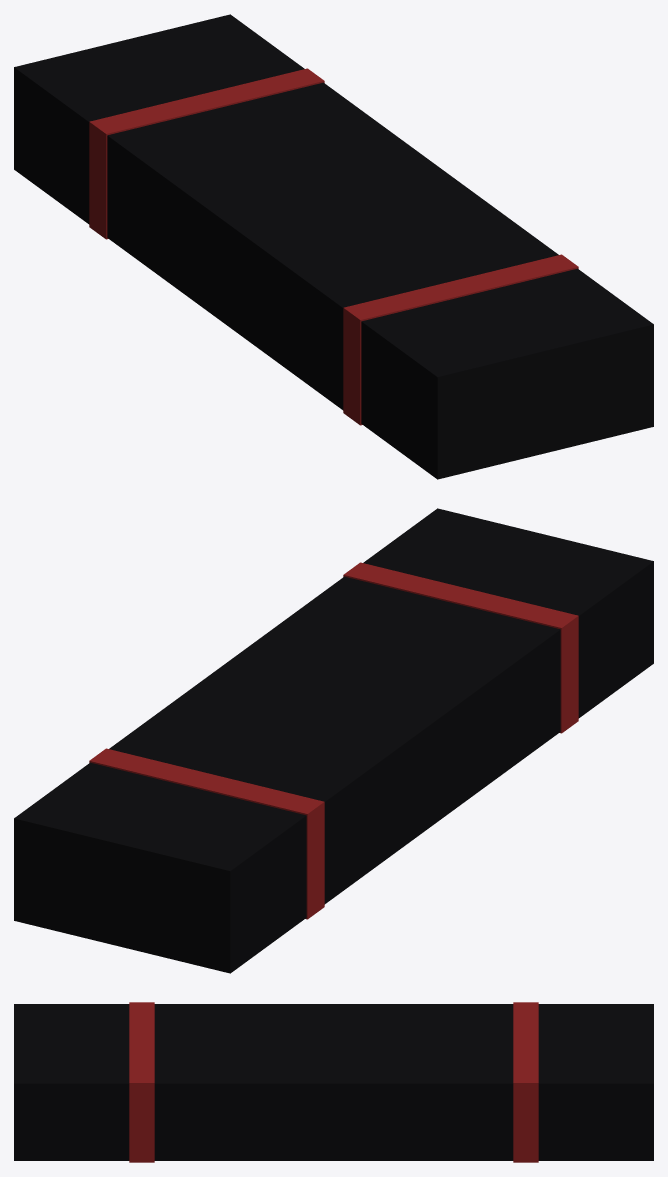
File: zpfe_pylon.obj
3 renders of one model, top to bottom at view 1: azimuth 30°, elevation 25°; view 2: azimuth 150°, elevation 25°; view 3: azimuth 270°, elevation 25°, orthographic. The views are drawn at different scales.
Parts seen in each view (by area): view 1: zpfe_pylon; view 2: zpfe_pylon; view 3: zpfe_pylon.
Part boxes in pixels (x1=…): zpfe_pylon: x1=14, y1=14, x2=653, y2=479; zpfe_pylon: x1=14, y1=508, x2=653, y2=973; zpfe_pylon: x1=14, y1=1002, x2=653, y2=1162.
Size of the model in its own units: 0.4465 by 0.206 by 1.5.
